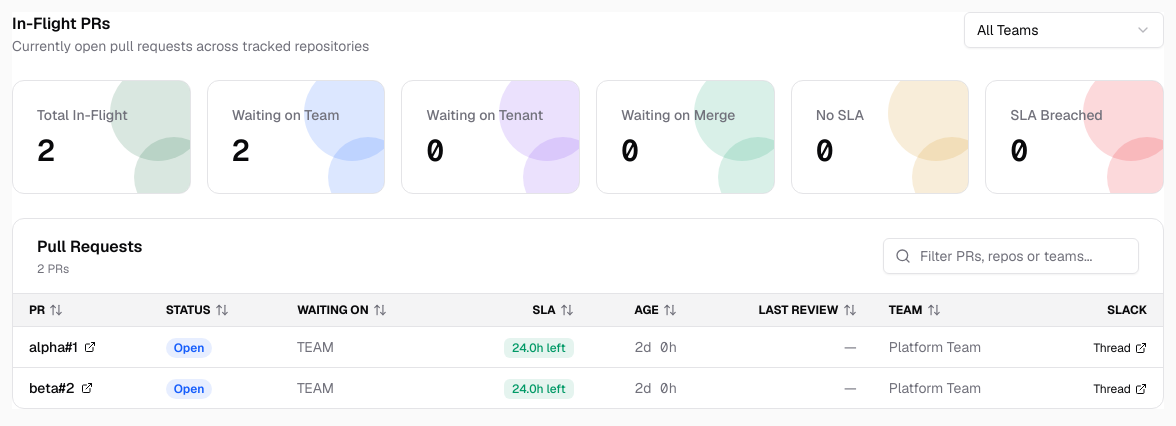
Test: InFlightPrsTab › Search › should filter by repo name
The width and height of the screenshot is (1176, 426).
In the field with placeholder "Filter PRs, repos or teams...": (1011, 256) x1=883 y1=238 x2=1139 y2=274, type "alpha"
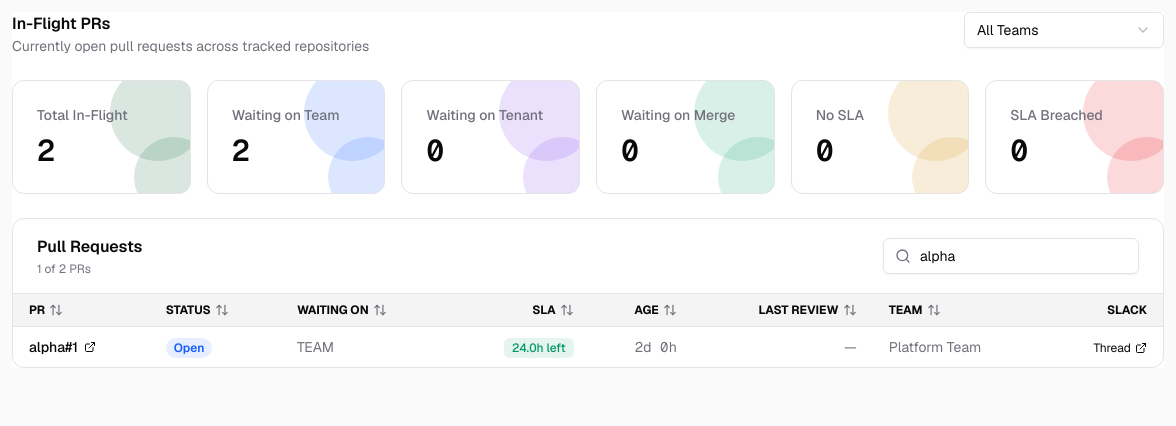
Expected: the link "alpha#1" is shown, x1=29 y1=337 x2=96 y2=357
Now the link "beta#2" is gone
